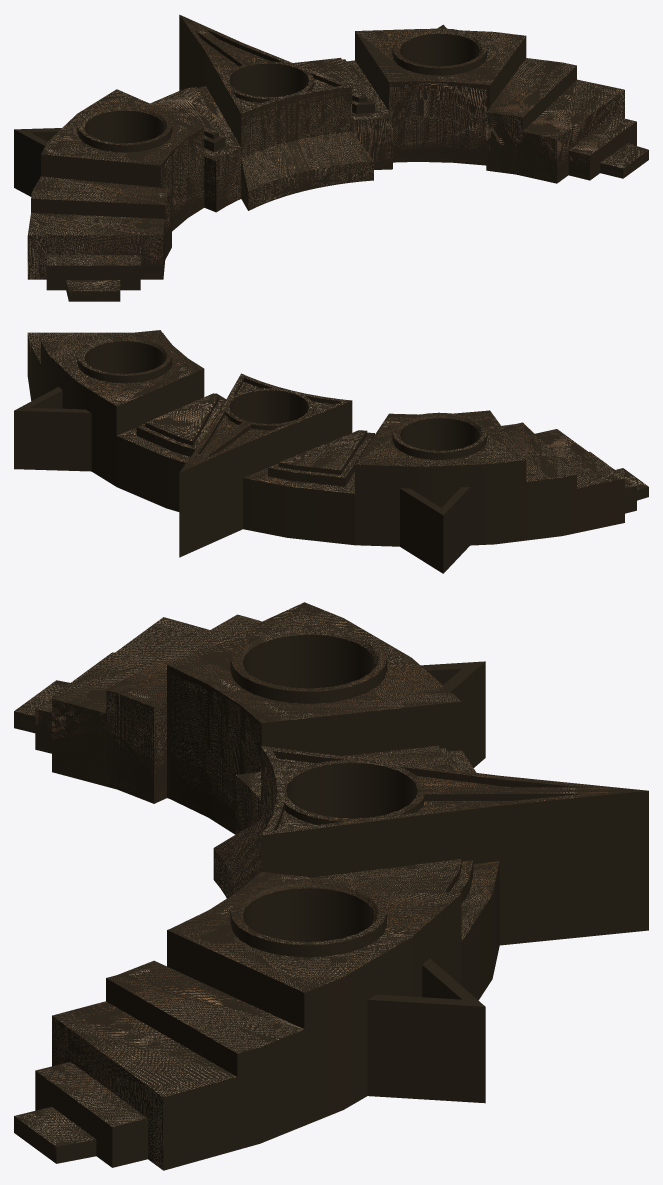
The model's file is console.fbx.
The picture shows the model from 3 angles, top to bottom: view 1: azimuth 30°, elevation 25°; view 2: azimuth 150°, elevation 25°; view 3: azimuth 270°, elevation 25°; orthographic projection. The views are drawn at different scales.
Visible parts, largest first — view 1: Component_9_1, Component_9_2; view 2: Component_9_2, Component_9_1; view 3: Component_9_1, Component_9_2.
Boxes of the visible parts, left/top/right/bottom form: Component_9_1: left=180, top=15, right=648, bottom=190; Component_9_2: left=14, top=15, right=304, bottom=301; Component_9_2: left=179, top=390, right=648, bottom=573; Component_9_1: left=14, top=330, right=291, bottom=511; Component_9_1: left=14, top=790, right=648, bottom=1170; Component_9_2: left=14, top=602, right=646, bottom=898.
Bounding box in the file's own units: 2241 × 315 × 1252.
